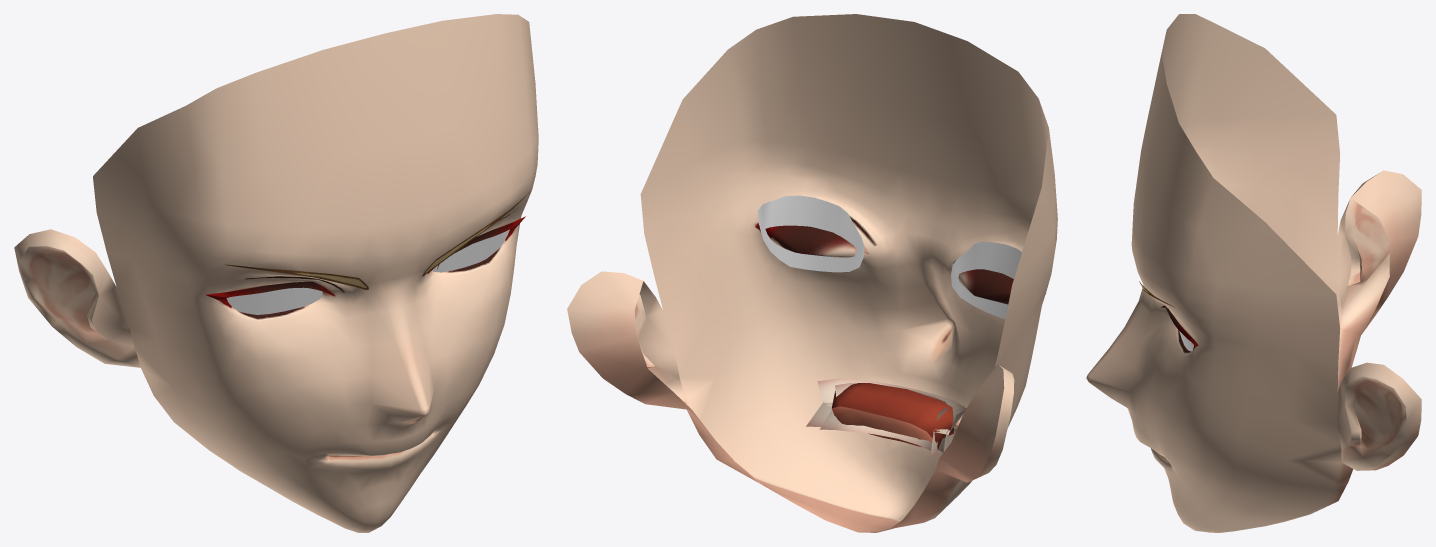
Rendered from Kaoru.fbx.
3 views of the same model, side by side, from view 1: azimuth 30°, elevation 25°; view 2: azimuth 150°, elevation 25°; view 3: azimuth 270°, elevation 25° (orthographic). The views are drawn at different scales.
Parts seen in each view (by area): view 1: M_Head, M_Eye_B_Def, M_Mth_B_Def, M_PupALL_R_A_Def, M_Brw_B_Def, M_PupALL_L_A_Def; view 2: M_Head, M_Mth_B_Def, M_Eye_B_Def, M_PupALL_L_A_Def, M_PupALL_R_A_Def; view 3: M_Head, M_Eye_B_Def, M_Mth_B_Def.
Boxes of the visible parts, box(x1,y1,x2,y2) form: M_Head: box(14, 14, 538, 404); M_Eye_B_Def: box(150, 165, 537, 415); M_Mth_B_Def: box(141, 355, 493, 532); M_PupALL_R_A_Def: box(226, 287, 322, 314); M_Brw_B_Def: box(224, 191, 530, 289); M_PupALL_L_A_Def: box(433, 229, 509, 272); M_Head: box(567, 14, 1057, 482); M_Mth_B_Def: box(685, 322, 1008, 532); M_Eye_B_Def: box(694, 162, 1054, 424); M_PupALL_L_A_Def: box(757, 195, 864, 272); M_PupALL_R_A_Def: box(951, 241, 1021, 318); M_Head: box(1131, 14, 1421, 470); M_Eye_B_Def: box(1086, 144, 1257, 457); M_Mth_B_Def: box(1087, 329, 1360, 532).
Bounding box in the file's own units: 0.1668 × 0.1746 × 0.1114.
5 materials, 3 textured.
